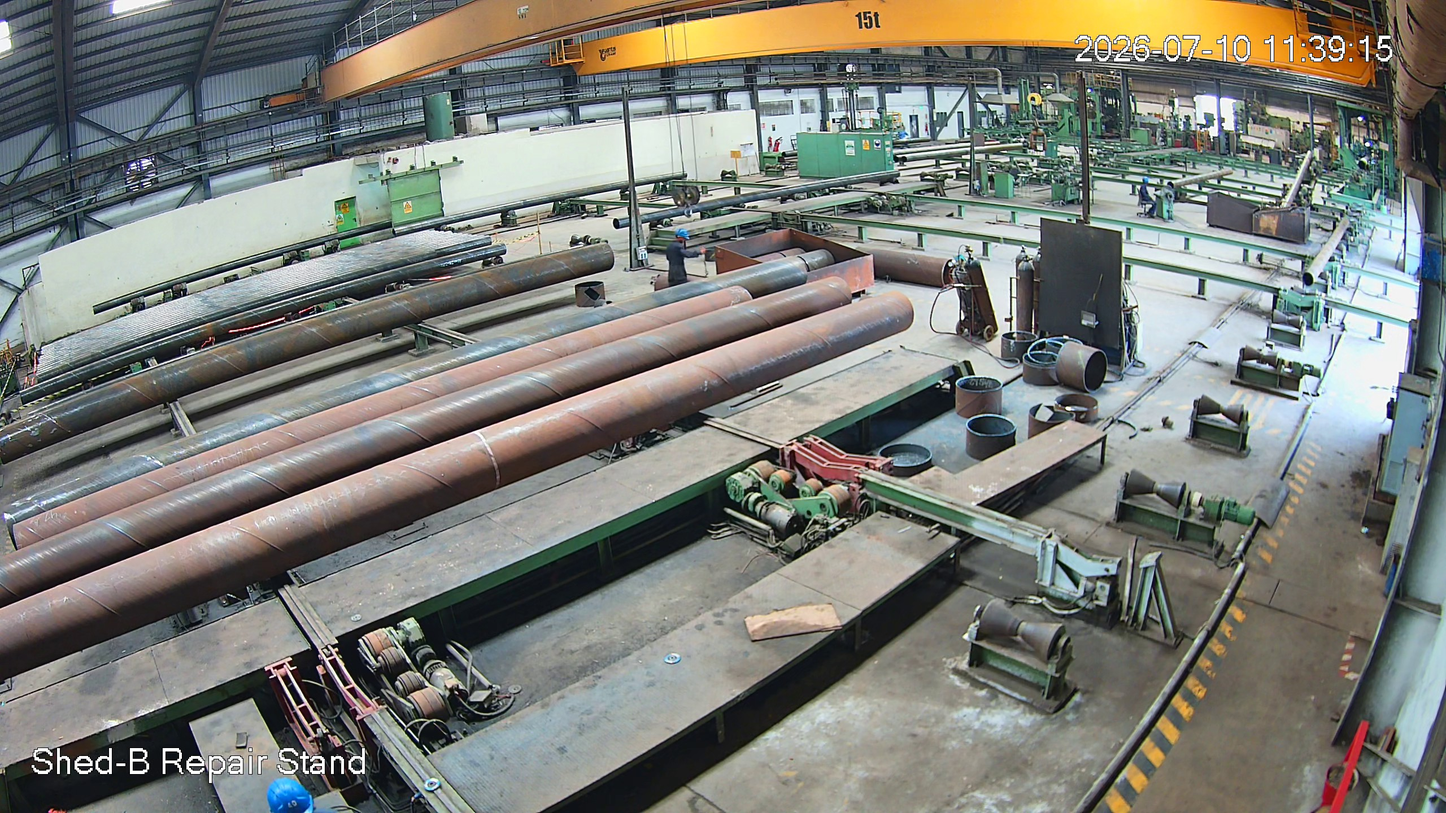Helmet: (665, 219, 697, 257), (1134, 170, 1152, 193)
Person: (655, 225, 710, 289), (1131, 174, 1159, 222)
